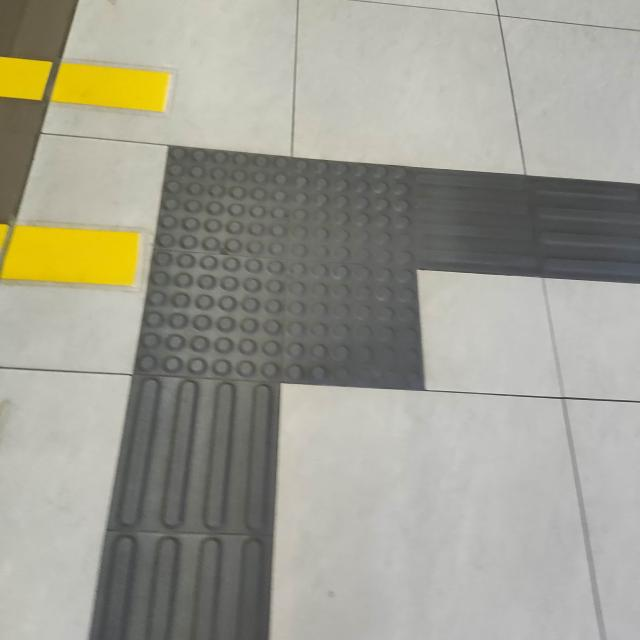kanan: (90, 105, 640, 497)
